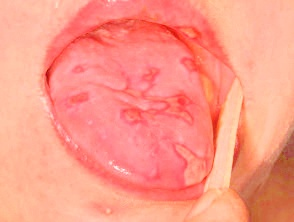SJS-TEN: (94, 61, 202, 134), (166, 13, 219, 86), (169, 133, 216, 189)
